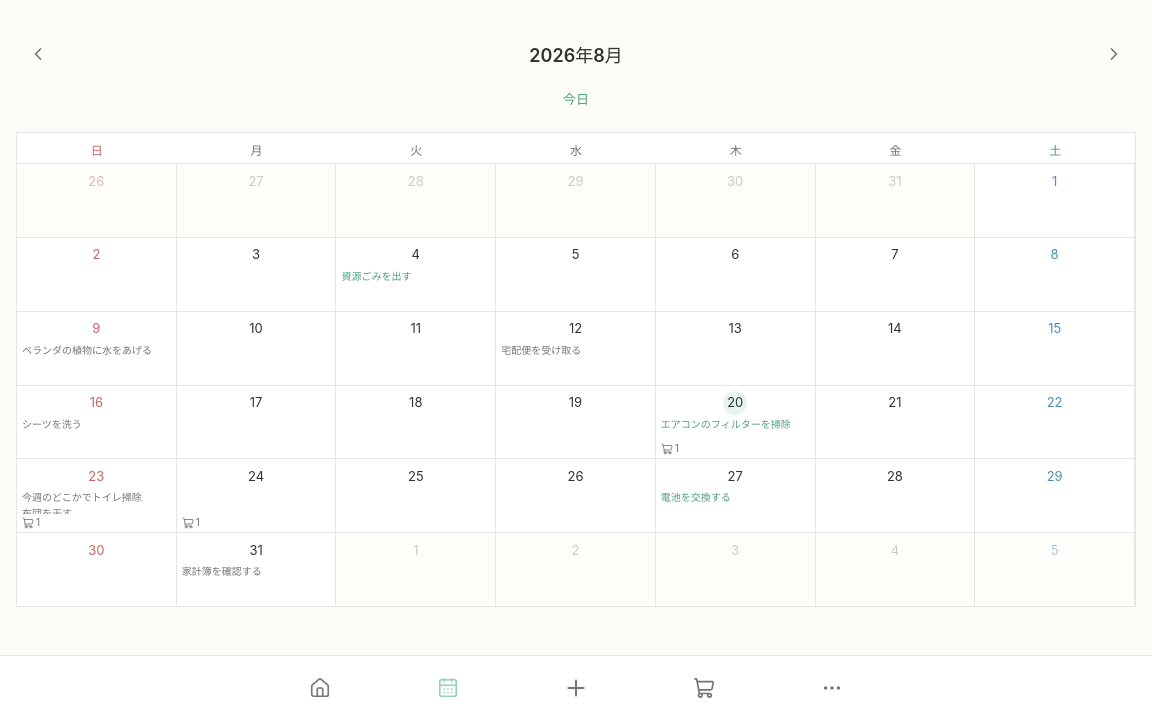
CalendarPage › moves months with a horizontal month-grid swipe without opening a date
This screenshot has width=1152, height=720.
Press the mouse on the element with class "calendar-month-grid": point(576, 370) [16,132,1136,607]
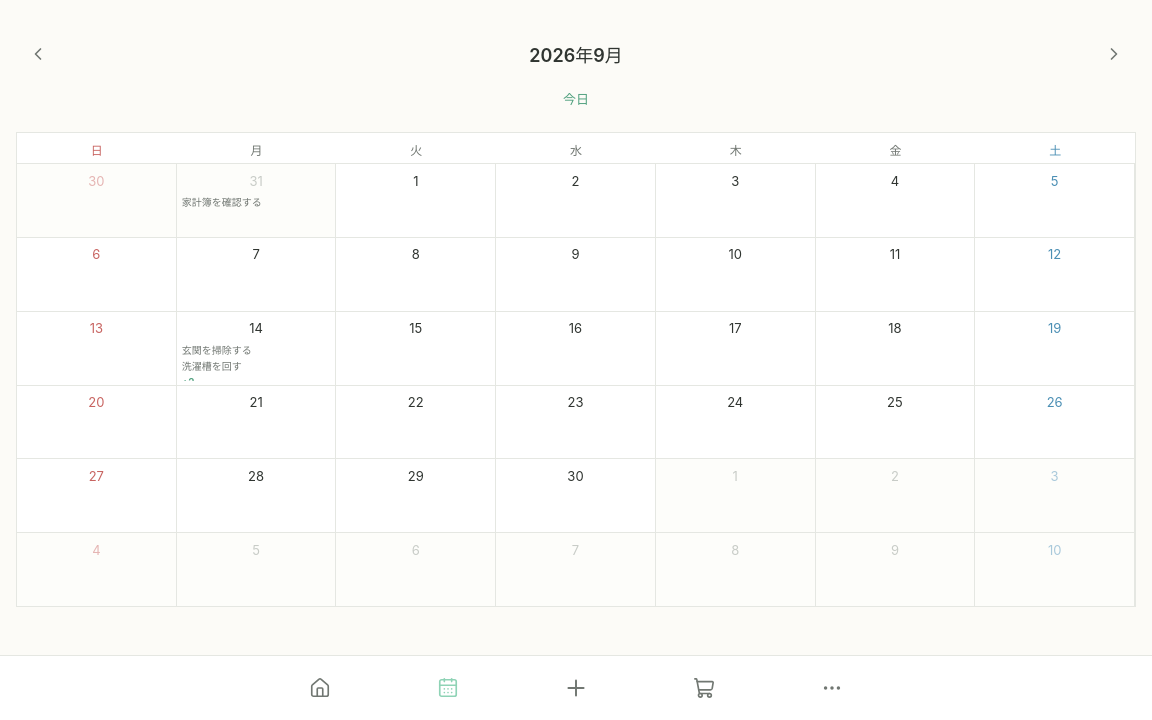
Result: the heading "2026年9月" is shown at [529,45,623,66]
Press the mouse on the element with class "calendar-month-grid": point(576, 370) [16,132,1136,607]
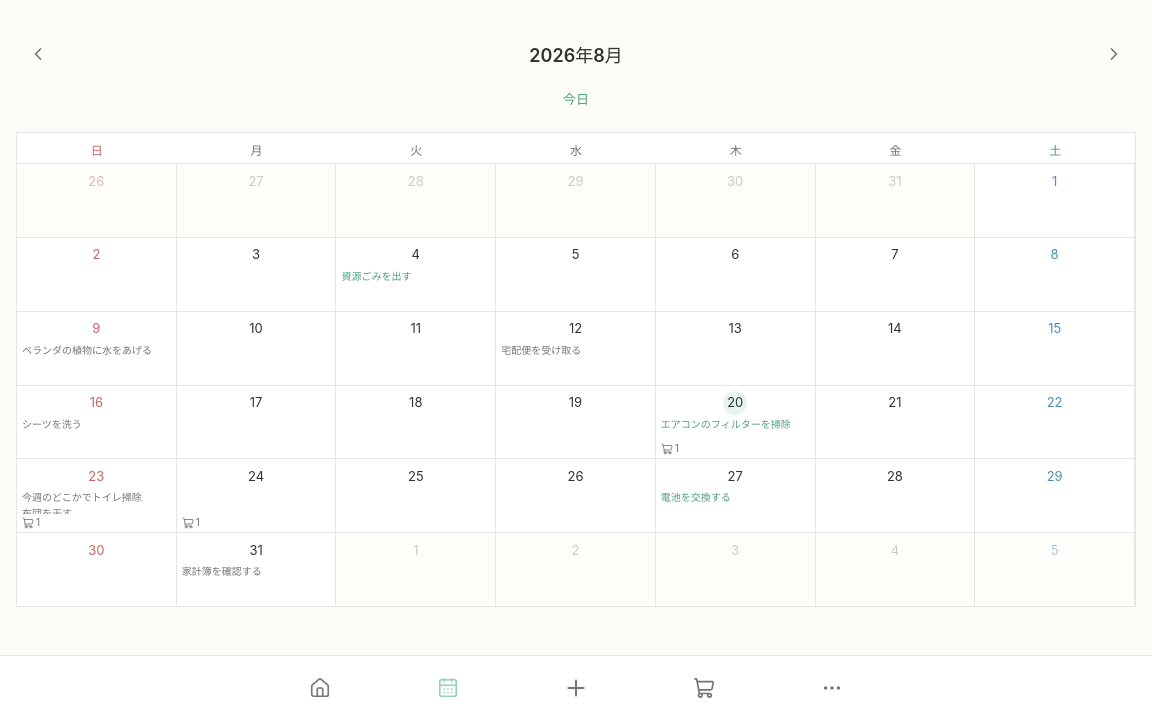
Result: the heading "2026年8月" is shown at [529,45,623,66]
